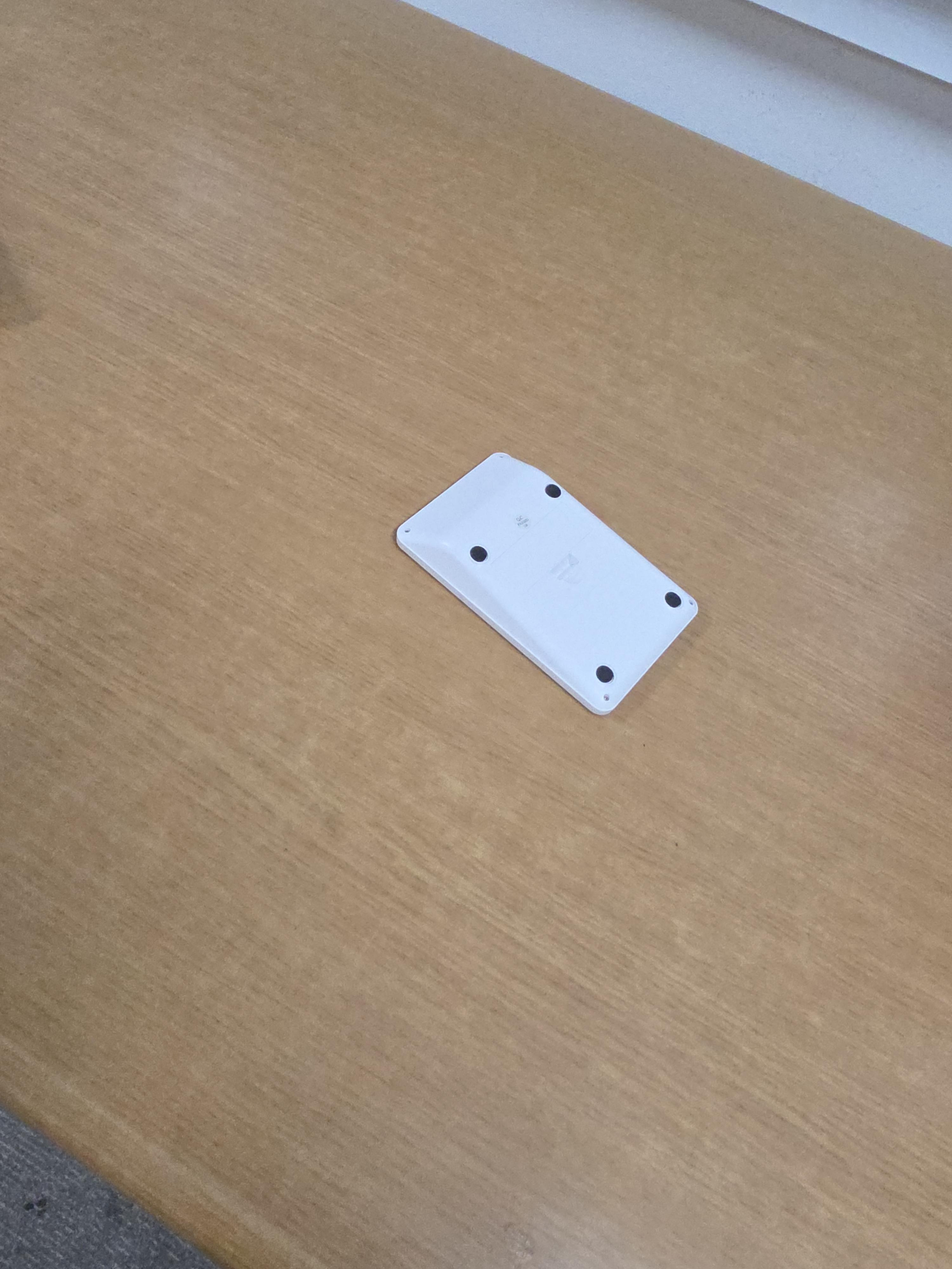calculator: (394, 452, 699, 717)
